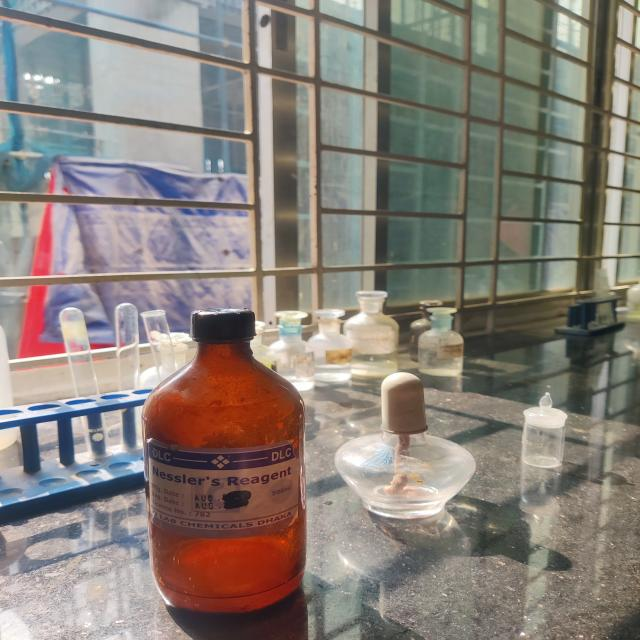Nessler_Reagent_Bottle: (128, 291, 323, 637)
Spirit_Lamp: (331, 363, 488, 540)
Weighing_Bottle: (510, 370, 582, 485)
